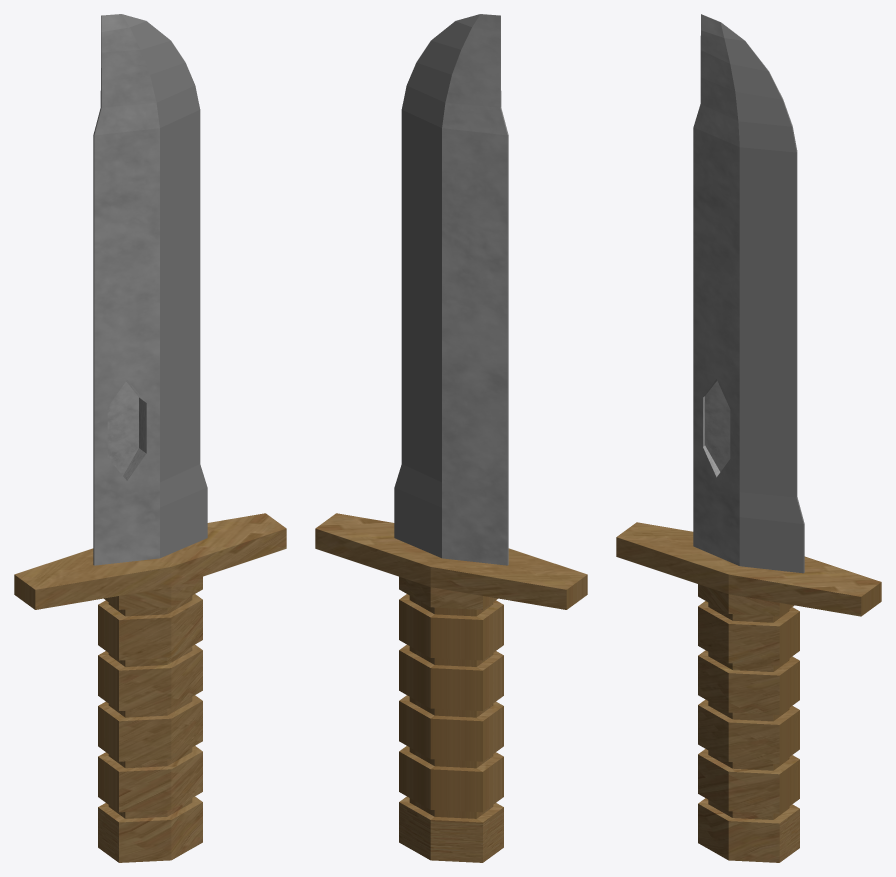
File: item_knife_stone.fbx
3 renders of one model, left to right at view 1: azimuth 30°, elevation 25°; view 2: azimuth 150°, elevation 25°; view 3: azimuth 330°, elevation 25°, orthographic. The views are drawn at different scales.
Visible parts, largest first — view 1: Cylinder; view 2: Cylinder; view 3: Cylinder.
Part boxes in pixels (x1=…): Cylinder: x1=14, y1=14, x2=286, y2=862; Cylinder: x1=315, y1=14, x2=587, y2=862; Cylinder: x1=616, y1=14, x2=881, y2=862.
Size of the model in its own units: 520 by 1662 by 150.
Materials: 3 (2 with a texture image).
